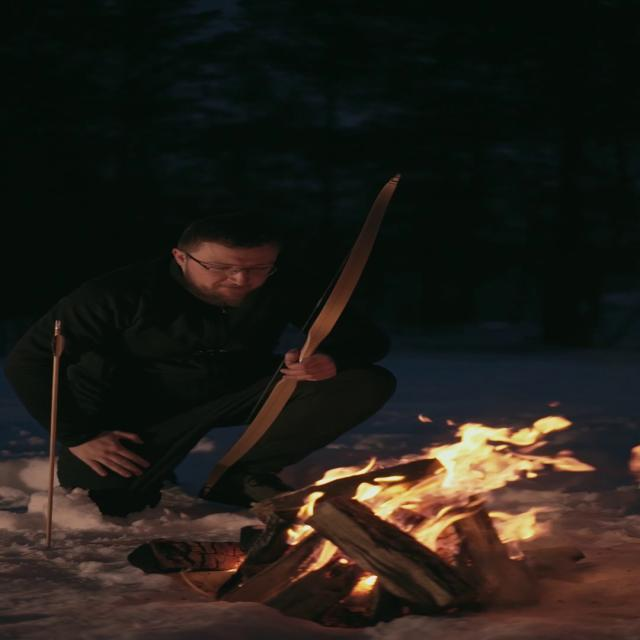Fire: (292, 406, 608, 567)
